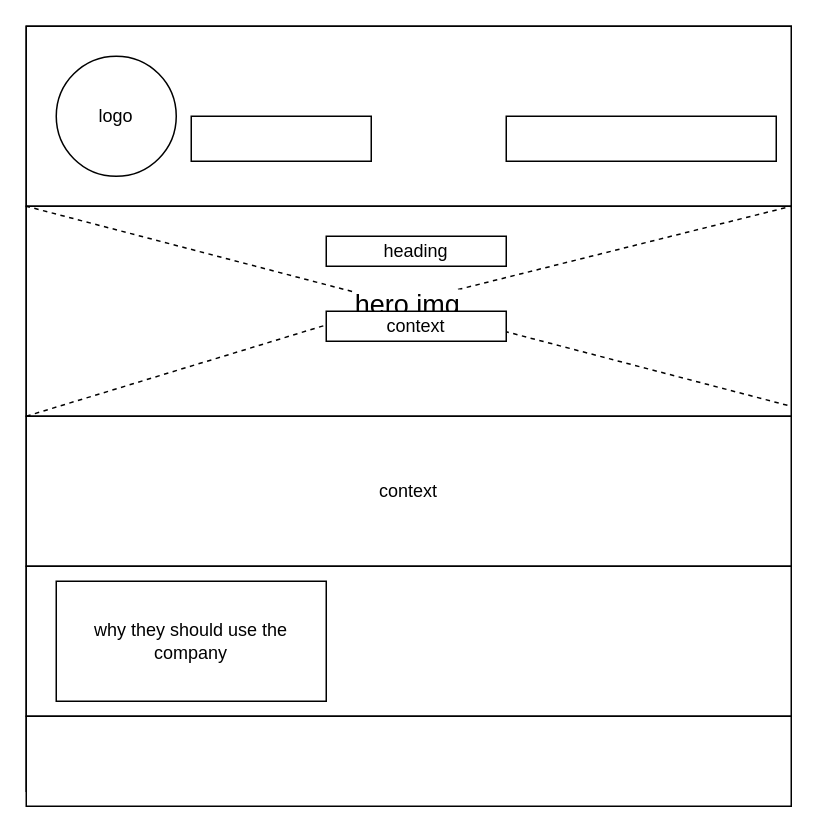
This 821x833 diagram has some shape labels left out. The shapes that lost their labels are listed below. From the top down, each one's centre as x and y in pixels, then its label:
At (x=280, y=138): "company heading".
At (x=640, y=138): "navigation bar".
At (x=408, y=760): "footer".
